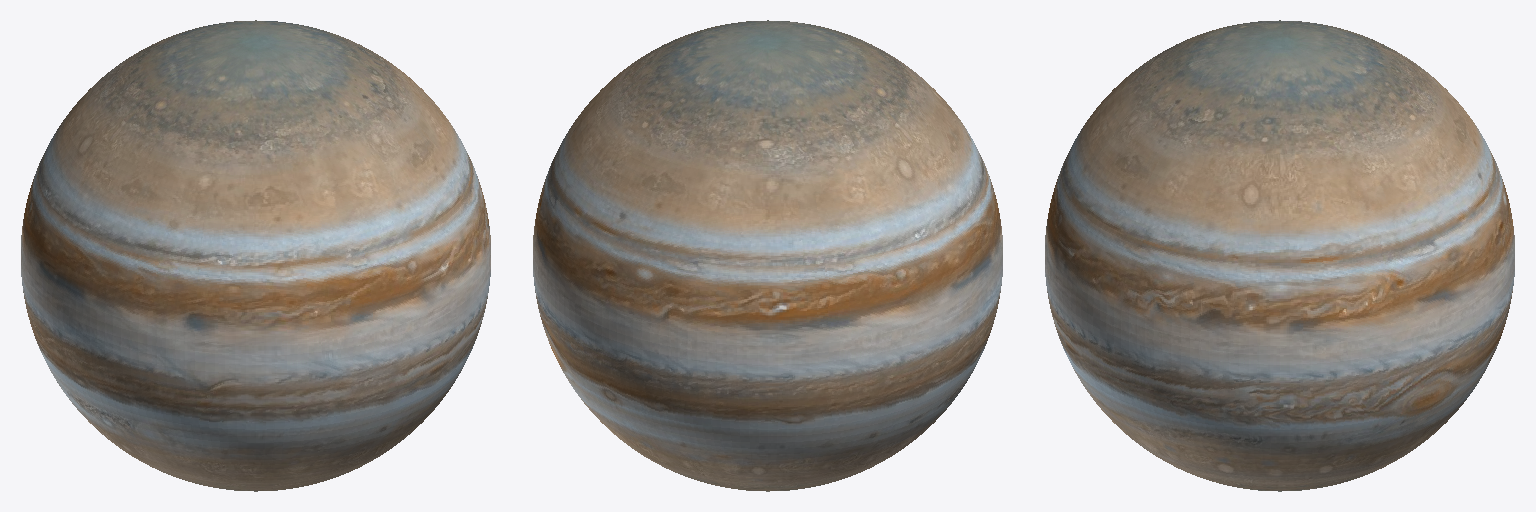
3 renders of one model, left to right at view 1: azimuth 30°, elevation 25°; view 2: azimuth 150°, elevation 25°; view 3: azimuth 270°, elevation 25°, orthographic.
Visible parts, largest first — view 1: cylindrically_mapped_sphere.001; view 2: cylindrically_mapped_sphere.001; view 3: cylindrically_mapped_sphere.001.
Part boxes in pixels (x1,y1,x2,y2): cylindrically_mapped_sphere.001: (21,20,490,491); cylindrically_mapped_sphere.001: (533,20,1002,491); cylindrically_mapped_sphere.001: (1045,20,1514,491).
Bounding box in the file's own units: 1000 × 1000 × 1000.
1 materials, 1 textured.